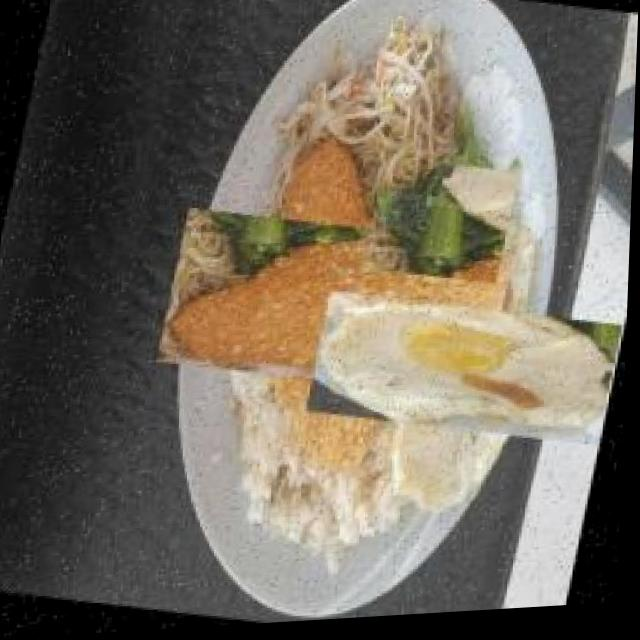fried_chicken: (194, 160, 486, 456)
fried_eggs: (343, 247, 593, 501)
mung_bean_sprouts: (289, 8, 477, 209)
rice: (249, 454, 399, 554)
water_spinach: (369, 151, 518, 302)
